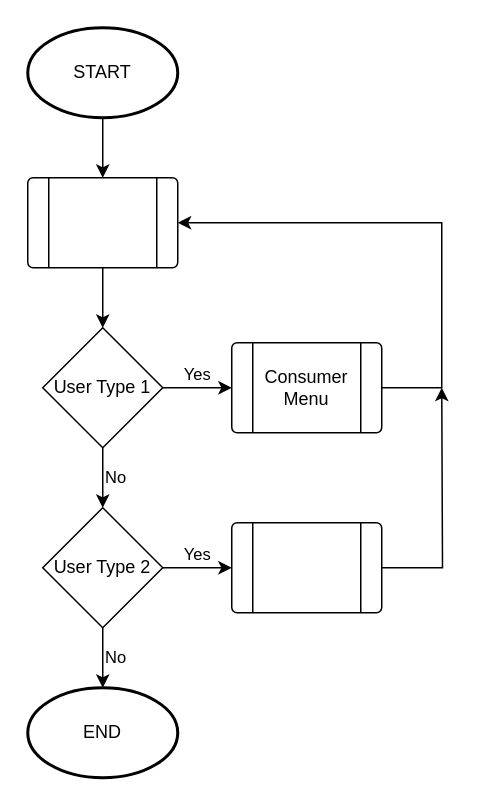
The diagram is 480 pixels wide and 804 high, and some of its shapes have lost their labels. The shapes that lost their labels are listed below. From the top down, each one's centre as x and y in pixels, then its label:
At pixel 102 222: "Login".
At pixel 306 567: "Seller Menu".
